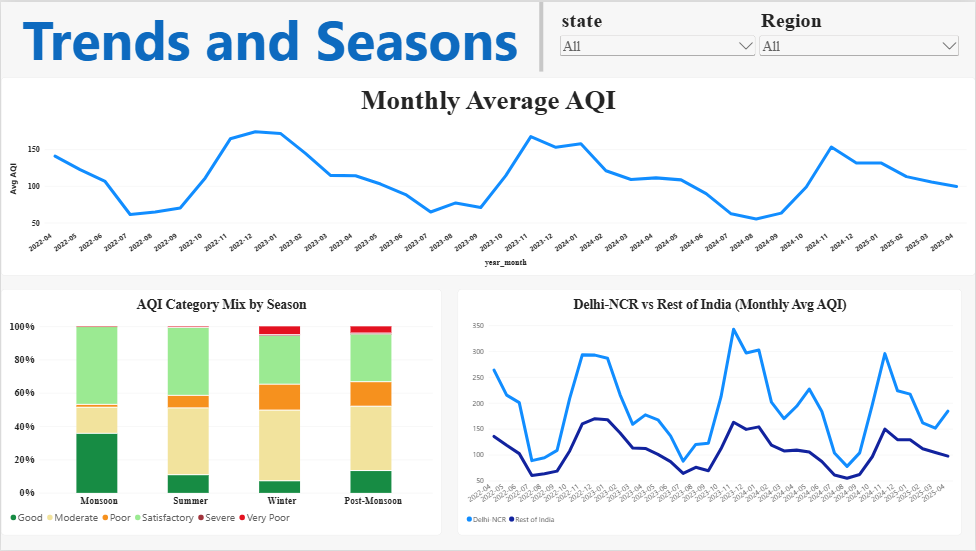

The dashboard page shown, as its layout file describes it:
{"tool":"powerbi","page":{"name":"Trends and Seasons","canvas":[1920,1080],"ordinal":1},"visuals":[{"type":"textbox","box":[0,0,1068.4,139.4],"z":0},{"type":"slicer","fields":{"Values":["aqi.state"]},"box":[1095.5,15.5,394.8,112.3],"z":1},{"type":"slicer","fields":{"Values":["aqi.Region"]},"box":[1490.3,15.5,402.6,112.3],"z":2},{"type":"lineChart","title":"Monthly Average AQI","fields":{"Category":["aqi.year_month"],"Y":["aqi.Avg AQI"]},"box":[0,148.6,1920,391],"z":3},{"type":"hundredPercentStackedColumnChart","title":"AQI Category Mix by Season","fields":{"Category":["aqi.season"],"Series":["aqi.aqi_category"],"Y":["CountNonNull(aqi.aqi_category)"]},"box":[0,567,868.1,484.9],"z":4},{"type":"lineChart","title":"Delhi-NCR vs Rest of India (Monthly Avg AQI)","fields":{"Category":["aqi.year_month"],"Series":["aqi.Region"],"Y":["aqi.Avg AQI"]},"box":[899.4,567,993.2,484.9],"z":5}]}

Visuals, with their boxes in screenshot pixels (x1, y1, x2, y2), scaled from the page's 1920x1080 canvas onto the 976x551 screenshot:
textbox: bbox(0, 0, 543, 71)
slicer - aqi.state: bbox(557, 8, 758, 65)
slicer - aqi.Region: bbox(758, 8, 962, 65)
"Monthly Average AQI" lineChart: bbox(0, 76, 975, 275)
"AQI Category Mix by Season" hundredPercentStackedColumnChart: bbox(0, 289, 441, 537)
"Delhi-NCR vs Rest of India (Monthly Avg AQI)" lineChart: bbox(457, 289, 962, 537)
